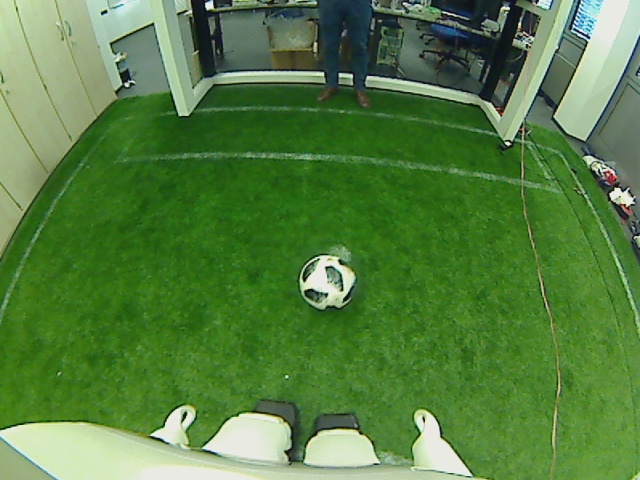ball: (295, 251, 357, 311)
